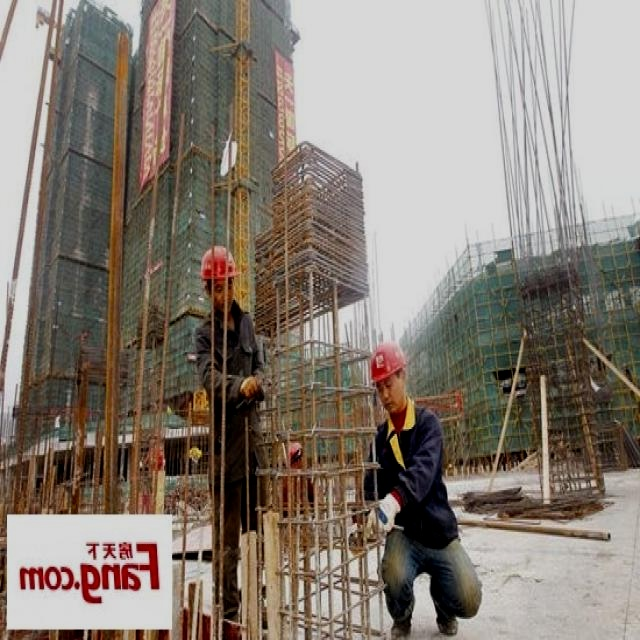Con_Casco: (371, 342, 405, 410)
